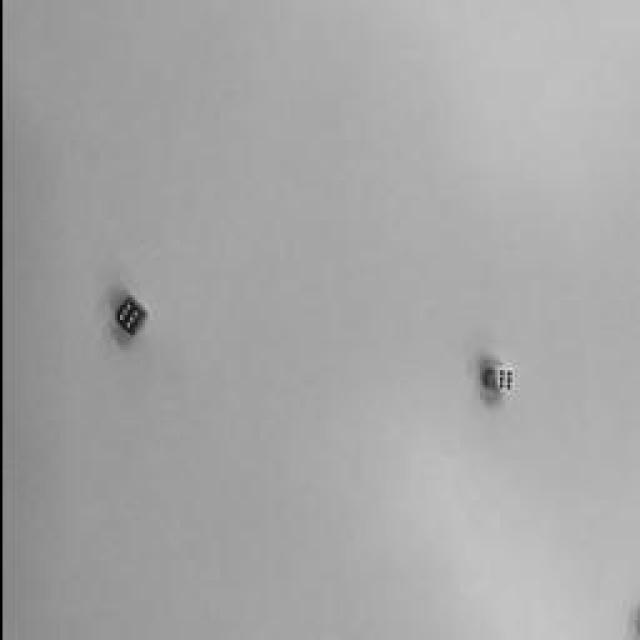dice_6: (114, 300, 138, 330), (492, 368, 512, 392)
